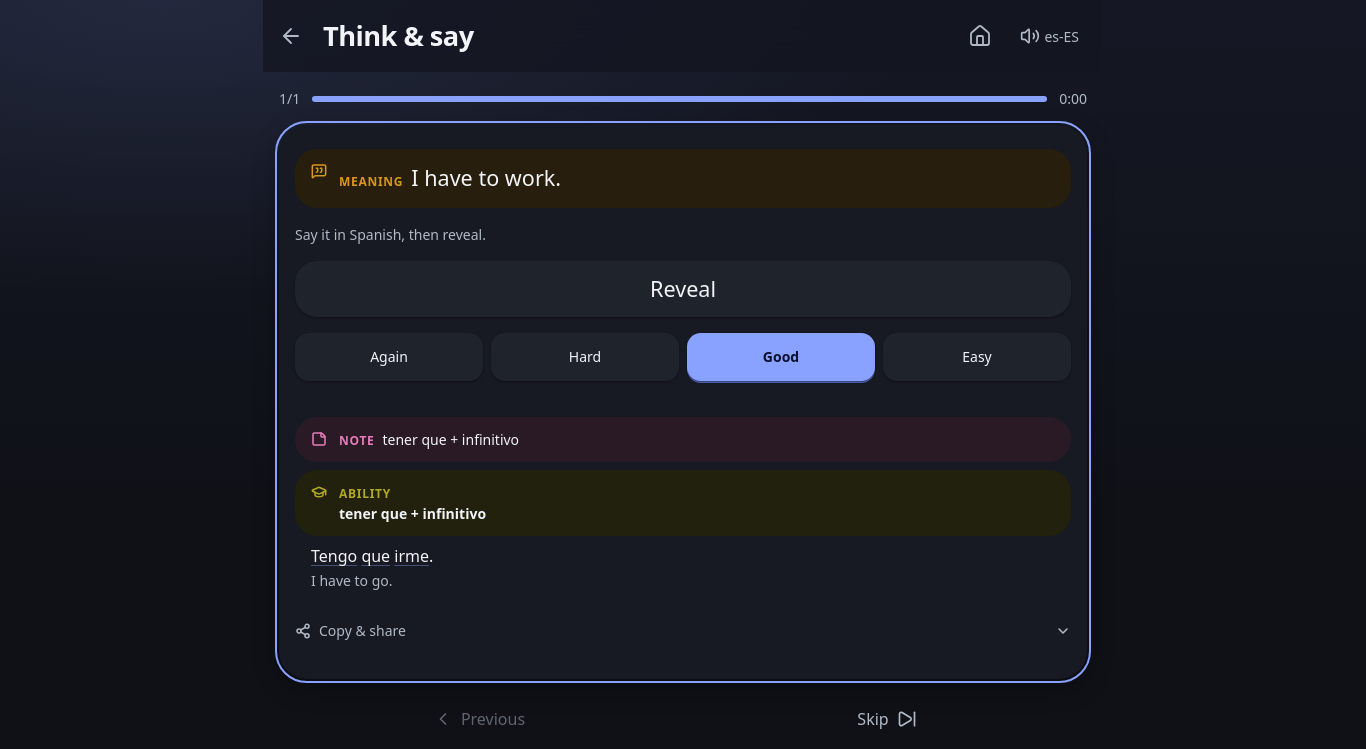
it: a finished session › reports what improved after a practice session
Check: the text "1/1" is shown, box [279,88,300,109]
Step 1. Click the button "Reveal" → (683, 289), box [295,260,1071,317]
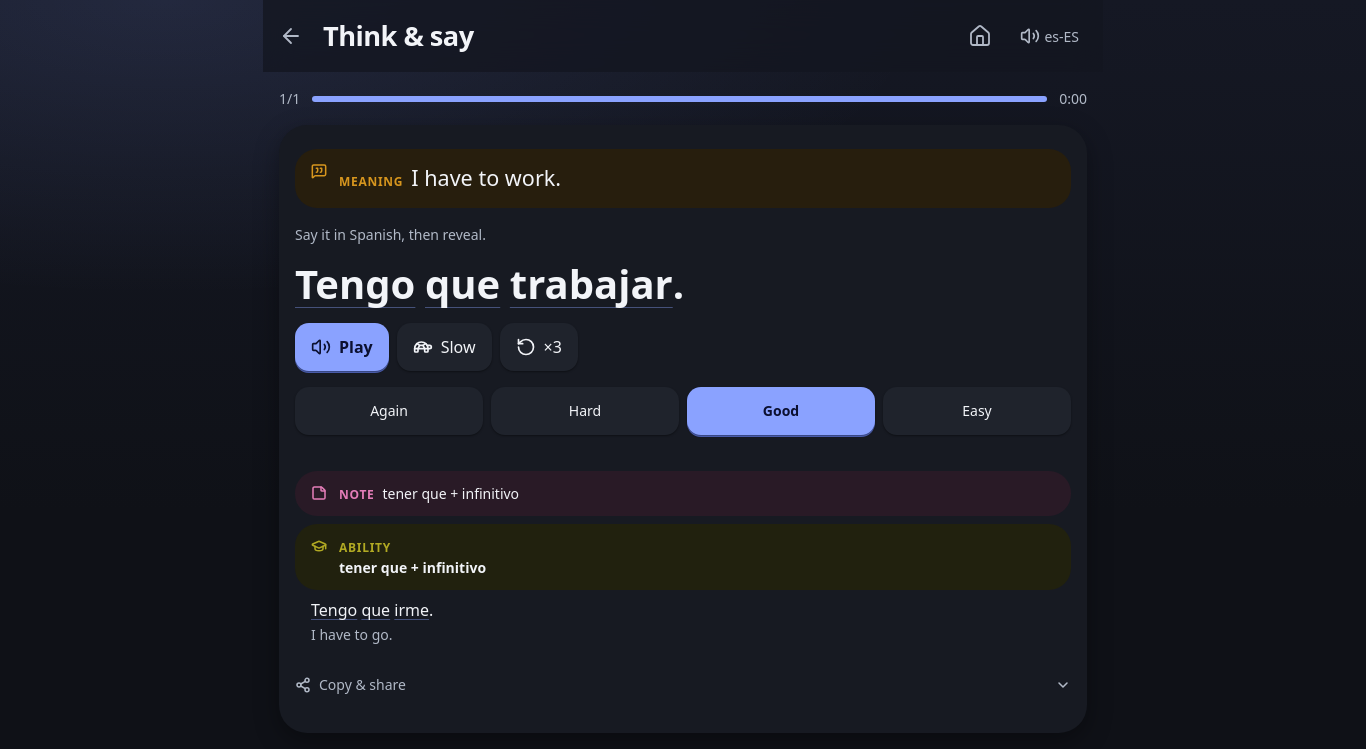
Step 2. Click the button "Good" → (781, 410), box [687,386,875,434]
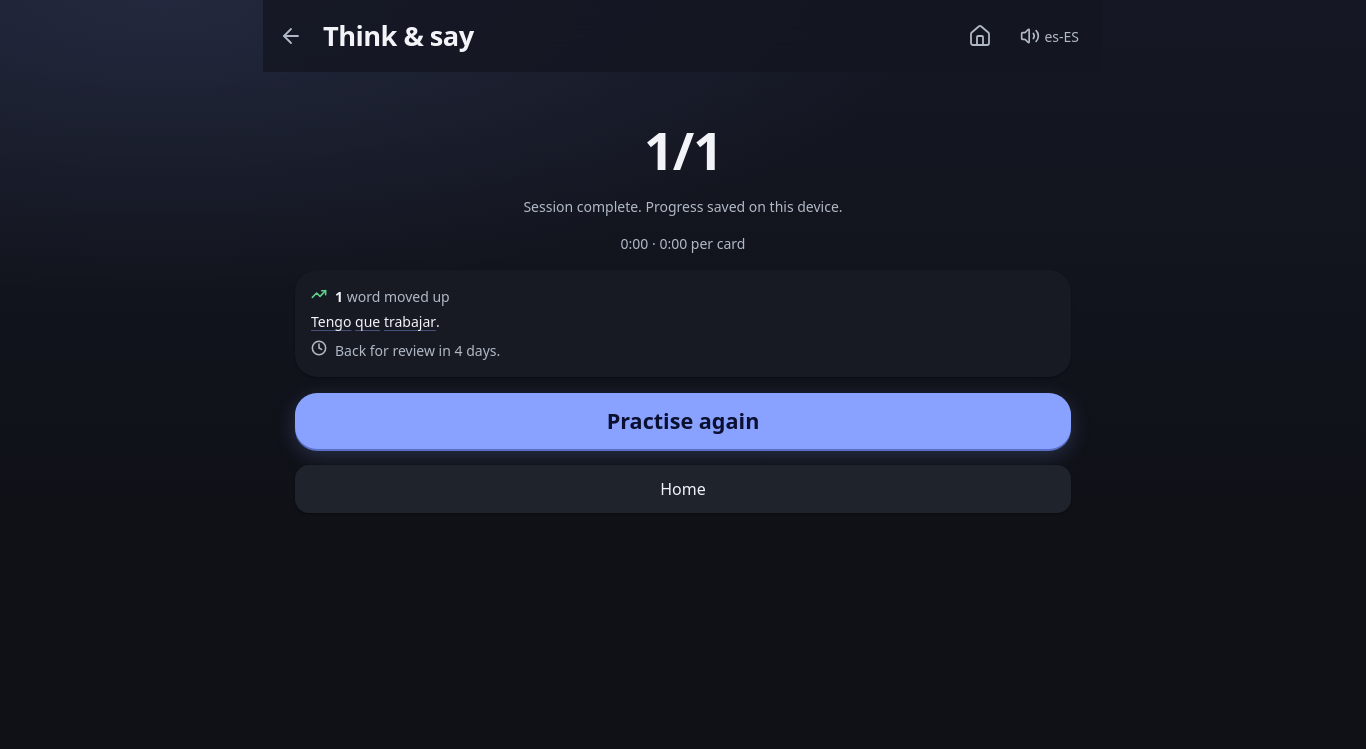
Check: the text "Session complete. Progress saved on this device." is shown, box [523,196,843,217]
Check: the text "1 word moved up" is shown, box [335,286,450,307]
Check: the text "Back for review in 4 days." is shown, box [335,340,500,361]
